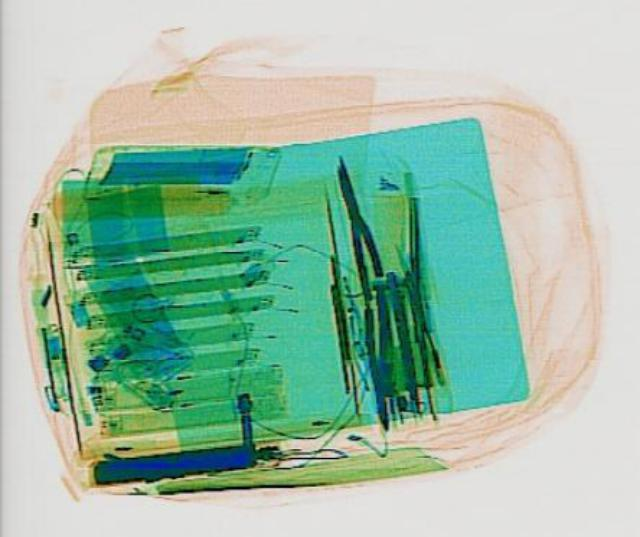Pliers: (321, 151, 389, 298)
